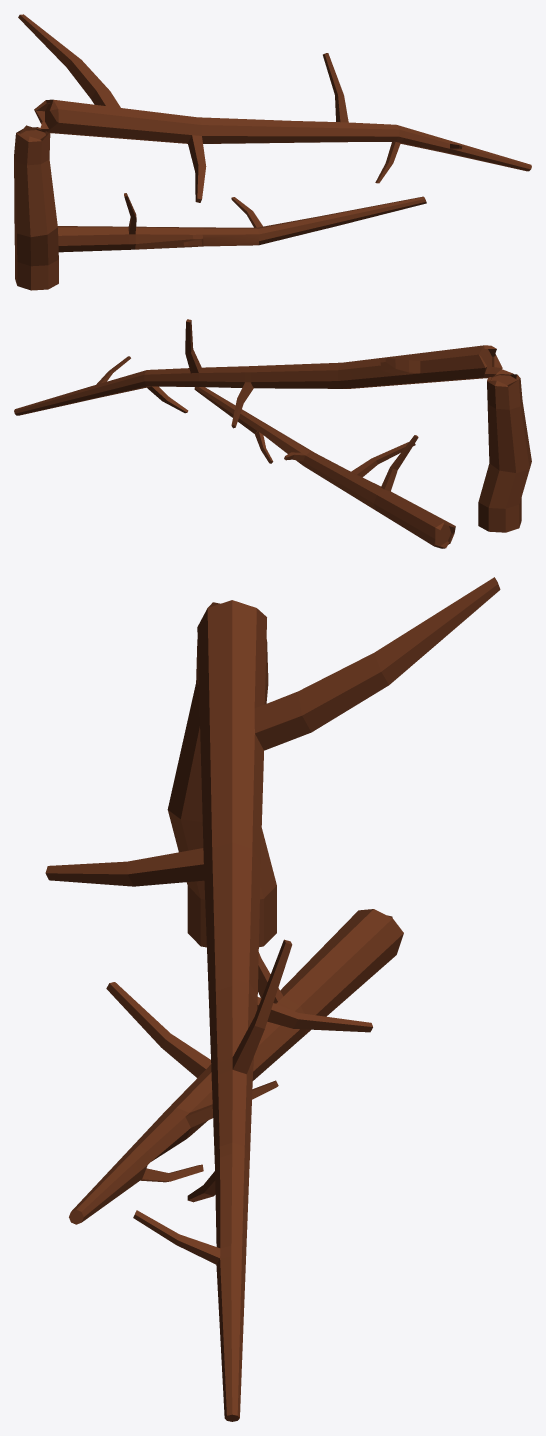
Rendered from New Summer_Obstacle2.fbx.
3 renders of one model, top to bottom at view 1: azimuth 30°, elevation 25°; view 2: azimuth 150°, elevation 25°; view 3: azimuth 270°, elevation 25°, orthographic. The views are drawn at different scales.
Parts seen in each view (by area): view 1: Cylinder.033; view 2: Cylinder.033; view 3: Cylinder.033.
Boxes of the visible parts, left/top/right/bottom form: Cylinder.033: left=14, top=14, right=531, bottom=290; Cylinder.033: left=14, top=319, right=531, bottom=548; Cylinder.033: left=45, top=577, right=500, bottom=1421.
Bounding box in the file's own units: 1317 × 522 × 509.
